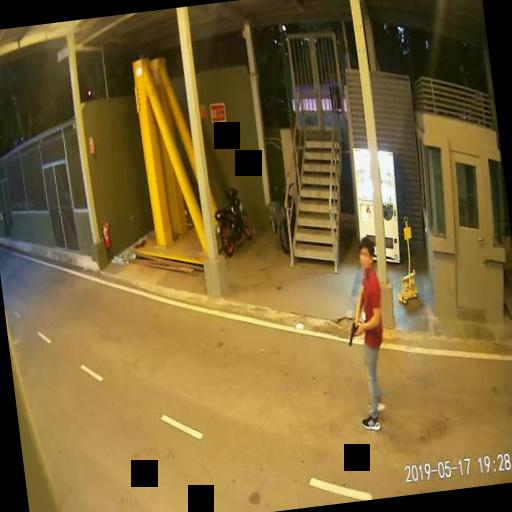Handgun: (344, 318, 360, 344)
